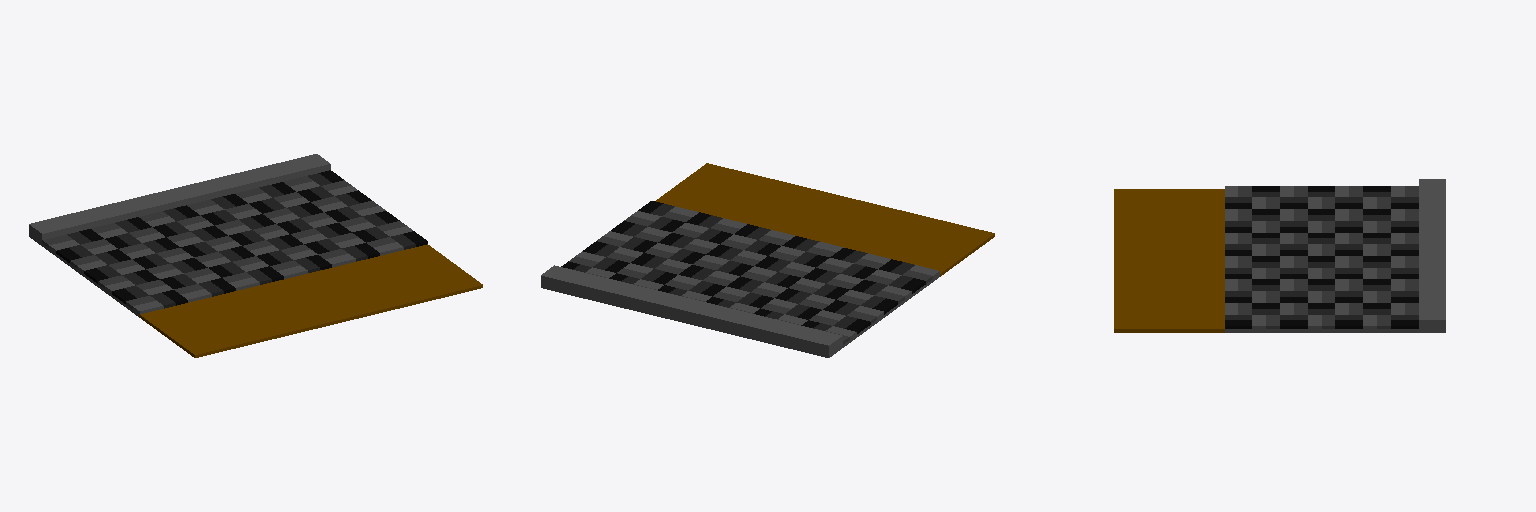
The picture shows the model from 3 angles: view 1: azimuth 30°, elevation 25°; view 2: azimuth 150°, elevation 25°; view 3: azimuth 270°, elevation 25°; orthographic projection.
Parts seen in each view (by area): view 1: object 1; view 2: object 1; view 3: object 1.
Part boxes in pixels (left/top/right/bottom): object 1: left=29, top=154, right=482, bottom=357; object 1: left=541, top=163, right=994, bottom=357; object 1: left=1114, top=179, right=1445, bottom=332.
Bounding box in the file's own units: 9.6 × 0.4 × 9.6.
Materials: 1 (1 with a texture image).